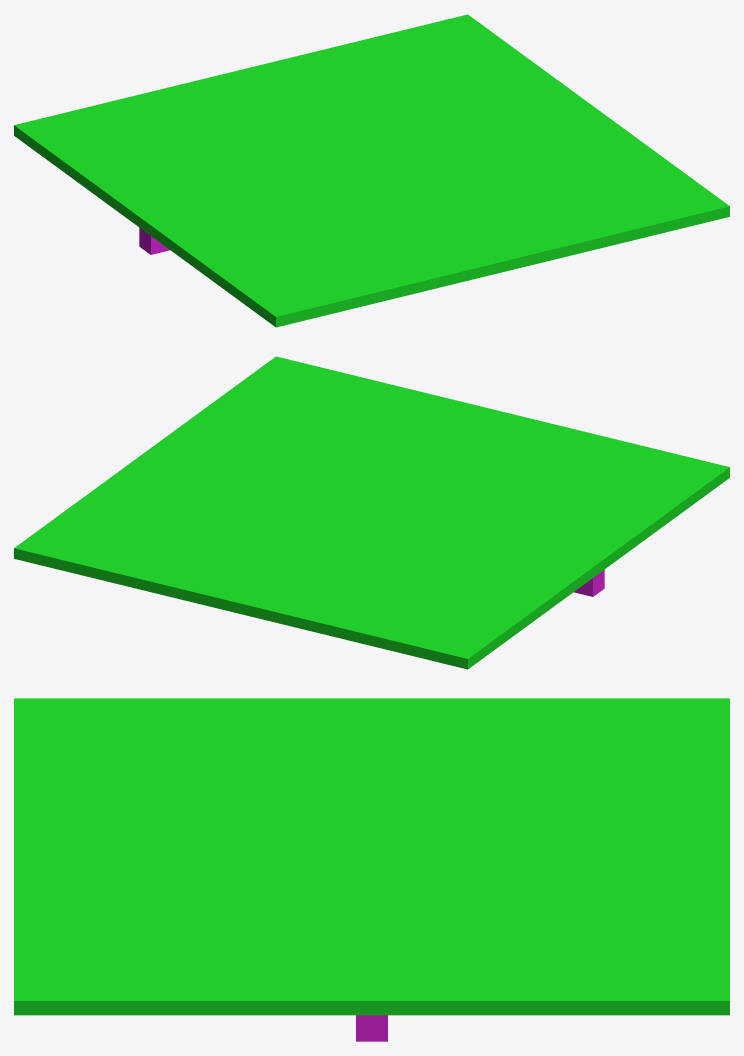
The model's file is Stairs_06_Platform_Straight.fbx.
3 views of the same model, one above another, from view 1: azimuth 30°, elevation 25°; view 2: azimuth 150°, elevation 25°; view 3: azimuth 270°, elevation 25° (orthographic). The views are drawn at different scales.
Parts seen in each view (by area): view 1: Stairs_06_Platform_Straight; view 2: Stairs_06_Platform_Straight; view 3: Stairs_06_Platform_Straight.
Boxes of the visible parts, x1=… form: Stairs_06_Platform_Straight: x1=14, y1=14, x2=729, y2=327; Stairs_06_Platform_Straight: x1=14, y1=356, x2=729, y2=669; Stairs_06_Platform_Straight: x1=14, y1=698, x2=729, y2=1041.
Size of the model in its own units: 229 by 14.29 by 229.
